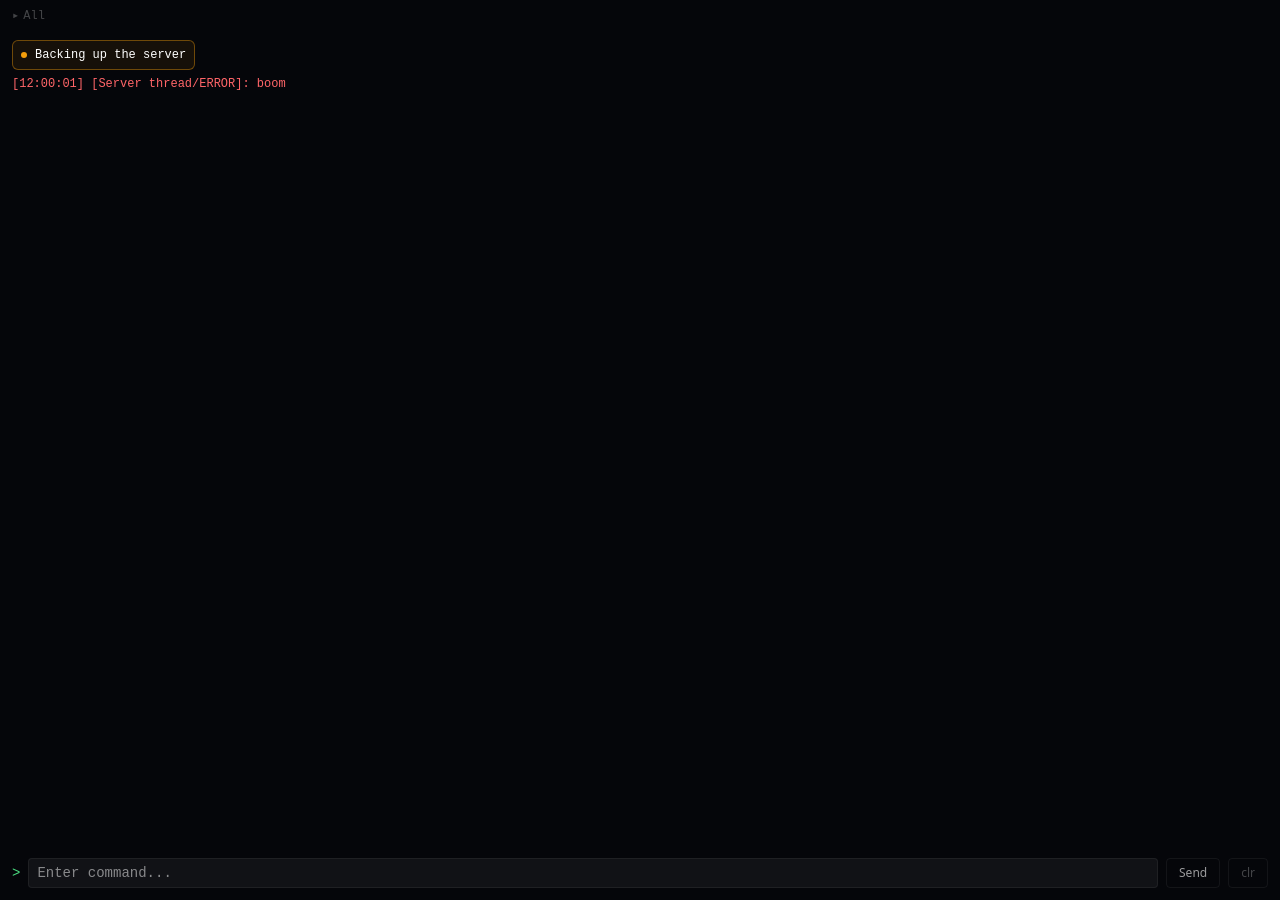
ConsoleTile manager lines › keeps manager lines out of the server level filters
Click the text "All" at [34, 16], box [23, 8, 45, 24]
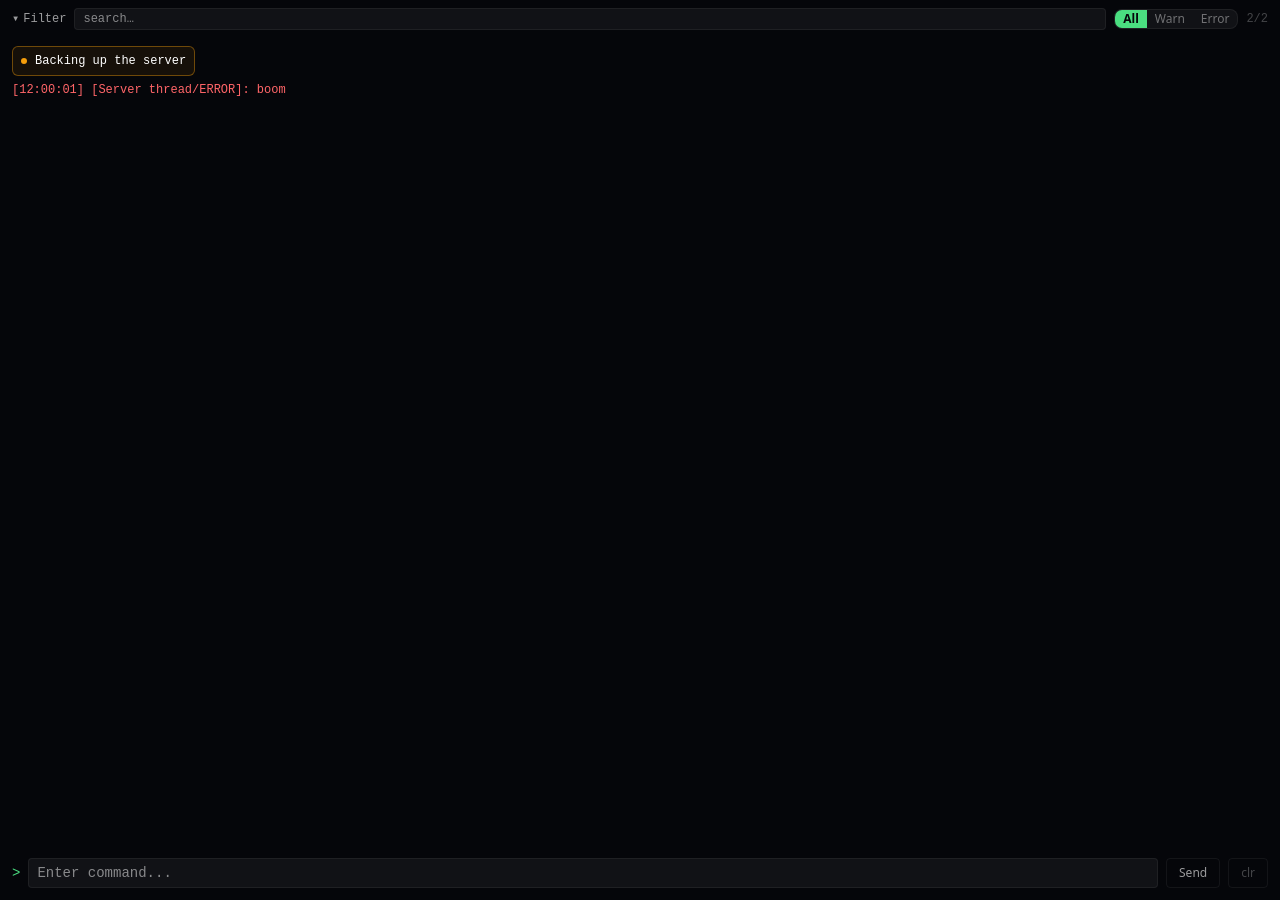
Click the button "Error" at [1215, 19], box [1193, 10, 1237, 28]
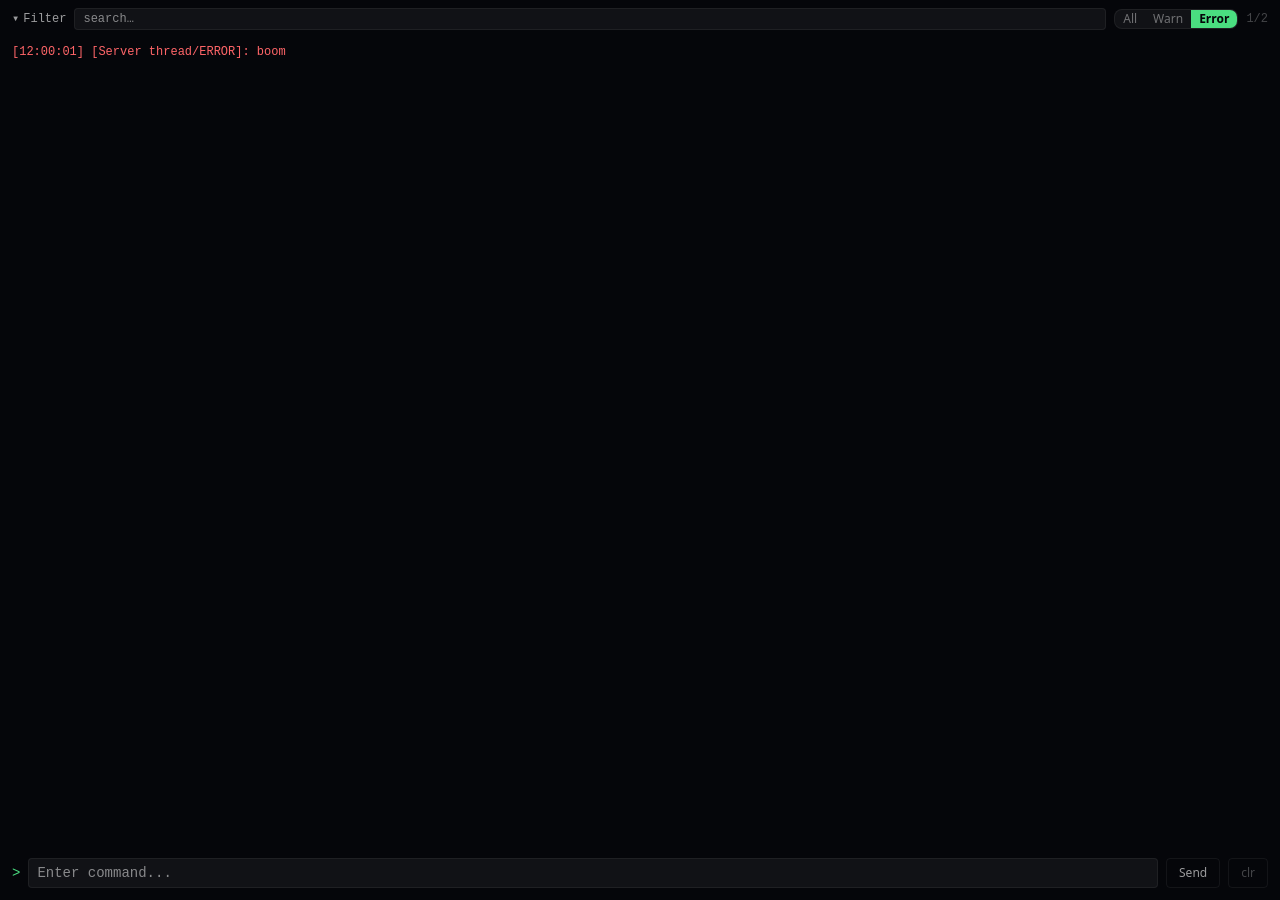
Check: the text "[12:00:01] [Server thread/ERROR]: boom" is shown, box [12, 45, 286, 59]
Check: the text "Backing up the server" is gone
